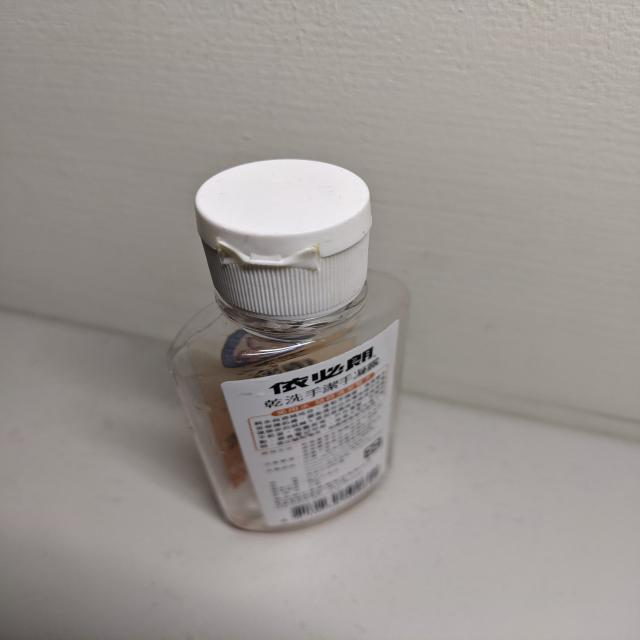Plastic: (178, 160, 408, 534)
